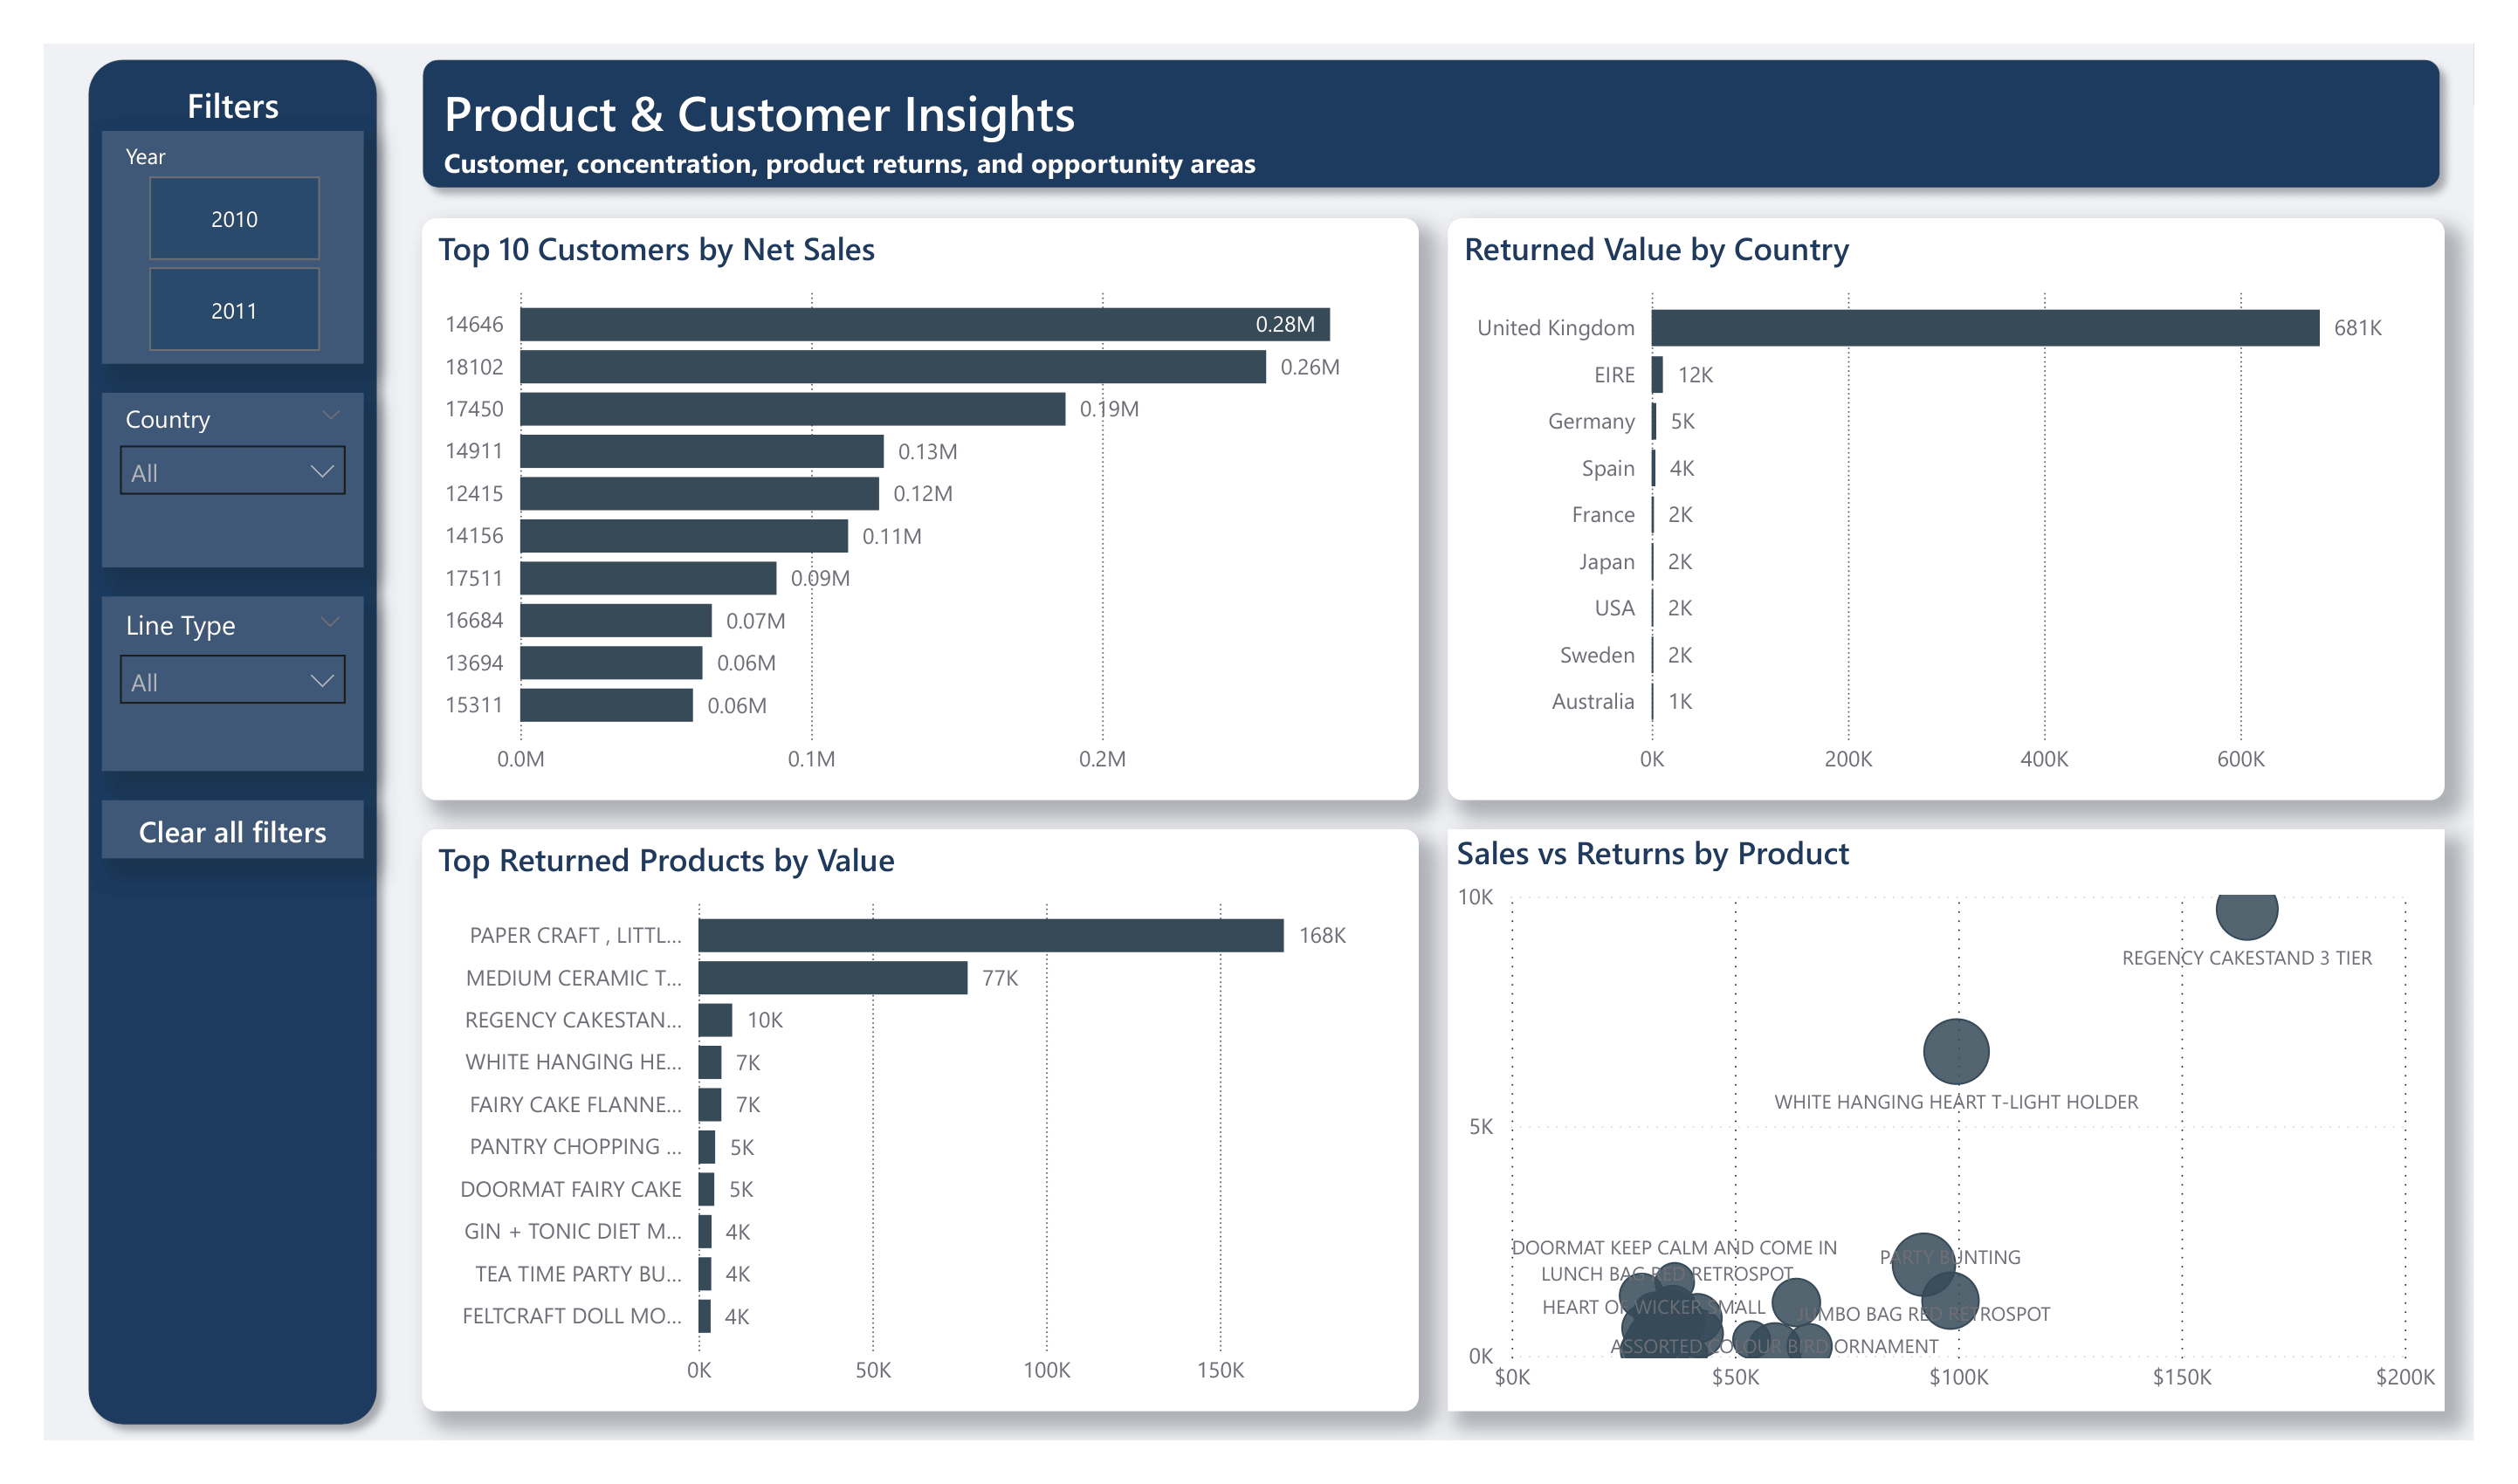

Layout of this report page (visuals, bound fields, positions):
{"tool":"powerbi","page":{"name":"Product & Customer Insights","canvas":[1336,920],"ordinal":1},"visuals":[{"type":"shape","box":[16,0,176,592],"z":0},{"type":"slicer","fields":{"Values":["Calendar.Year"]},"box":[32,80,144,160],"z":1000},{"type":"slicer","fields":{"Values":["Online Retail.Country"]},"box":[32,288,144,88],"z":2000},{"type":"slicer","fields":{"Values":["Online Retail.Line_Type"]},"box":[32,400,144,88],"z":3000},{"type":"shape","box":[208,0,1126,96],"z":4000},{"type":"textbox","title":"Online Retail Sales Dashboard","box":[225,8,1095,54],"z":5000},{"type":"card","fields":{"Values":["Online Retail.Report Context"]},"box":[225,64,1095,25],"z":6000},{"type":"textbox","title":"Filters","box":[16,32,176,40],"z":7000},{"type":"actionButton","title":"Clear all filters","box":[32,528,144,36],"z":8000},{"type":"cardVisual","fields":{"Data":["Online Retail.Identified Sales Share"]},"box":[768,104,558,120],"z":9000},{"type":"cardVisual","fields":{"Data":["Online Retail.Unidentified Net Sales"]},"box":[200,104,552,120],"z":10000},{"type":"clusteredBarChart","title":"Top 10 known customers by net sales","fields":{"Category":["Online Retail.Customer_ID"],"Y":["Online Retail.Net Sales"]},"box":[200,240,552,344],"z":11000},{"type":"clusteredBarChart","title":"Top 10 countries by reversal value","fields":{"Category":["Online Retail.Country"],"Y":["Online Retail.Return Value"]},"box":[768,240,558,344],"z":12000},{"type":"clusteredBarChart","title":"Top 10 products by reversal value","fields":{"Category":["DimProduct.Product_Label"],"Y":["Online Retail.Return Value"]},"box":[32,626,720,286],"z":13000},{"type":"scatterChart","title":"Gross sales vs reversals","fields":{"Category":["DimProduct.Product_Label"],"Size":["Online Retail.Orders"],"X":["Online Retail.Main Sales"],"Y":["Online Retail.Returns Amount"]},"box":[768,600,558,312],"z":14000},{"type":"card","fields":{"Values":["Online Retail.Product Reversal Note"]},"box":[32,600,720,26],"z":21000}]}

Visuals, with their boxes on the page's 1336x920 design canvas (x1, y1, x2, y2). These are canvas units, not pixel positions in the 2518x1484 screenshot, which may show the page scaled, cropped or inside an application window:
shape: [16,0,192,592]
slicer - Calendar.Year: [32,80,176,240]
slicer - Online Retail.Country: [32,288,176,376]
slicer - Online Retail.Line_Type: [32,400,176,488]
shape: [208,0,1334,96]
"Online Retail Sales Dashboard" textbox: [225,8,1320,62]
card - Online Retail.Report Context: [225,64,1320,89]
"Filters" textbox: [16,32,192,72]
"Clear all filters" actionButton: [32,528,176,564]
cardVisual - Online Retail.Identified Sales Share: [768,104,1326,224]
cardVisual - Online Retail.Unidentified Net Sales: [200,104,752,224]
"Top 10 known customers by net sales" clusteredBarChart: [200,240,752,584]
"Top 10 countries by reversal value" clusteredBarChart: [768,240,1326,584]
"Top 10 products by reversal value" clusteredBarChart: [32,626,752,912]
"Gross sales vs reversals" scatterChart: [768,600,1326,912]
card - Online Retail.Product Reversal Note: [32,600,752,626]
